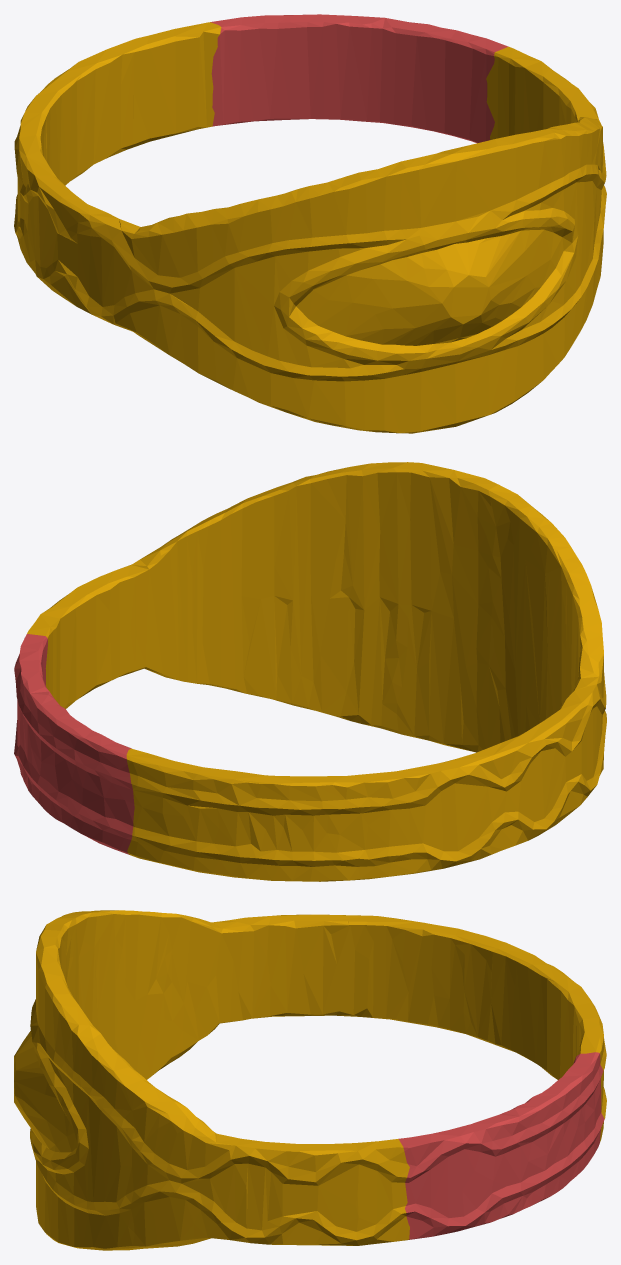
Rendered from fractured_46_2pcs.glb.
The picture shows the model from 3 angles, top to bottom: view 1: azimuth 30°, elevation 25°; view 2: azimuth 150°, elevation 25°; view 3: azimuth 270°, elevation 25°; orthographic projection. The views are drawn at different scales.
Visible parts, largest first — view 1: piece_0.obj, piece_1.obj; view 2: piece_0.obj, piece_1.obj; view 3: piece_0.obj, piece_1.obj.
Boxes of the visible parts, x1,y1,x2,y2 form: piece_0.obj: [14, 22, 606, 433]; piece_1.obj: [210, 14, 508, 143]; piece_0.obj: [27, 462, 606, 881]; piece_1.obj: [14, 634, 134, 854]; piece_0.obj: [14, 910, 606, 1250]; piece_1.obj: [398, 1052, 604, 1239].
Bounding box in the file's own units: 0.9675 × 0.4904 × 1.
